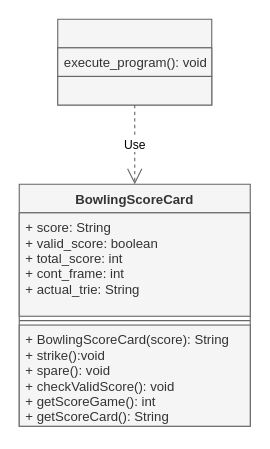
Some shapes in this 270 by 449 pixel diagram are drawn without their labels. The box of each missing label's shape, as (x1, y1, x2, y2) in pixels:
App: (57, 18, 212, 105)
reload_program(): void: (57, 75, 212, 105)
